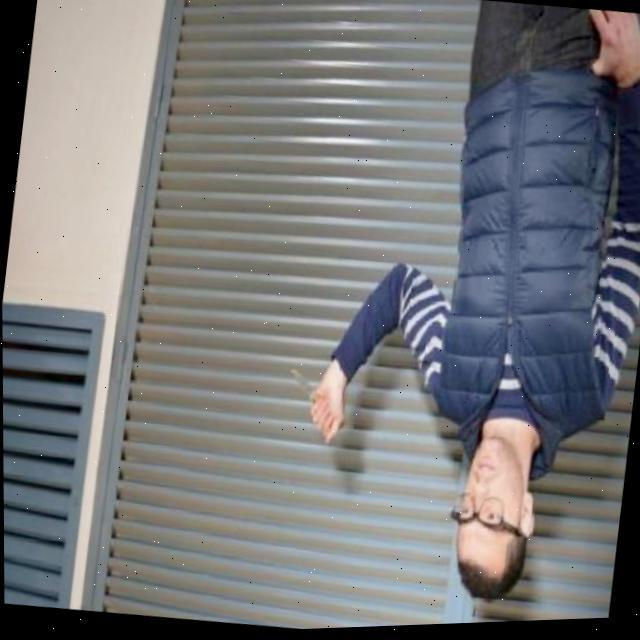knife: (282, 367, 348, 435)
